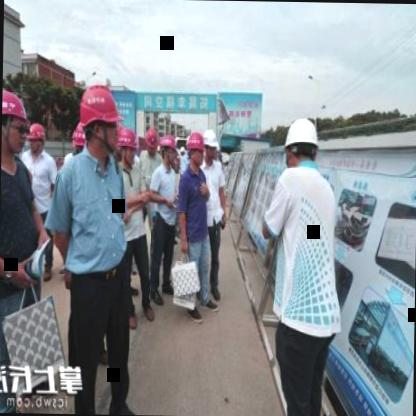helmet: (78, 83, 122, 154), (282, 115, 319, 173), (1, 89, 31, 154), (118, 125, 139, 166), (27, 120, 46, 156), (71, 119, 89, 156), (159, 134, 178, 166), (188, 132, 205, 166), (203, 129, 219, 162), (142, 127, 158, 156)
